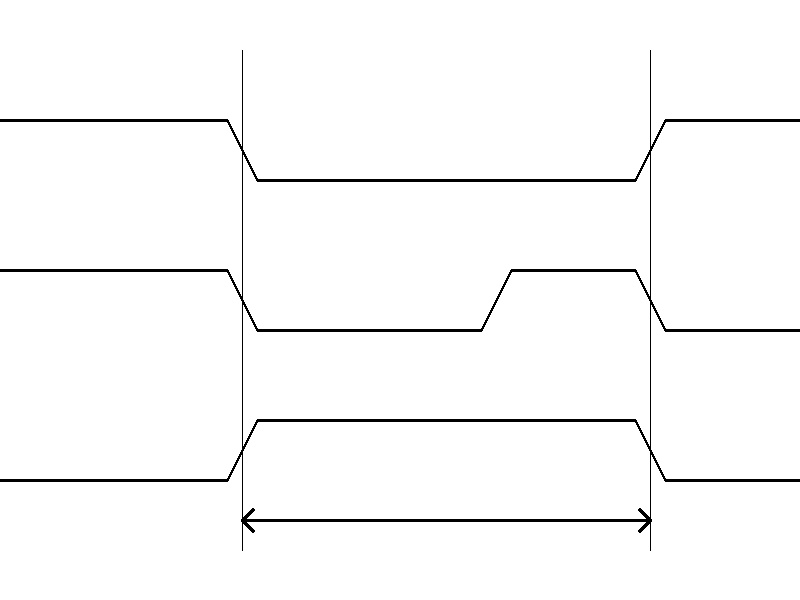double_arrow: (242, 505, 650, 535)
